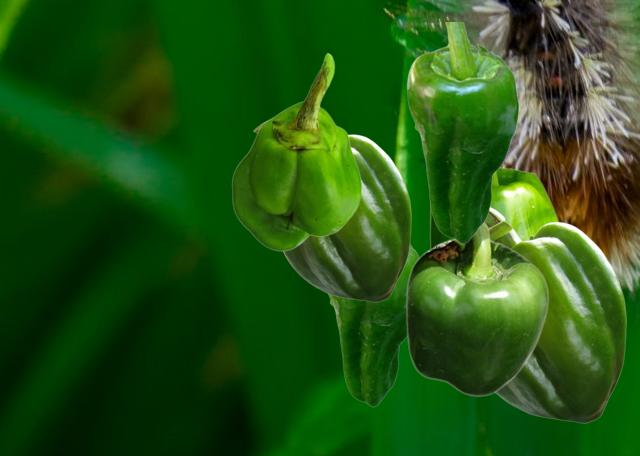bell_pepper: (486, 207, 625, 422), (253, 123, 410, 301), (231, 52, 361, 250), (405, 222, 548, 396), (406, 22, 518, 243), (327, 244, 419, 406), (429, 167, 559, 248)
